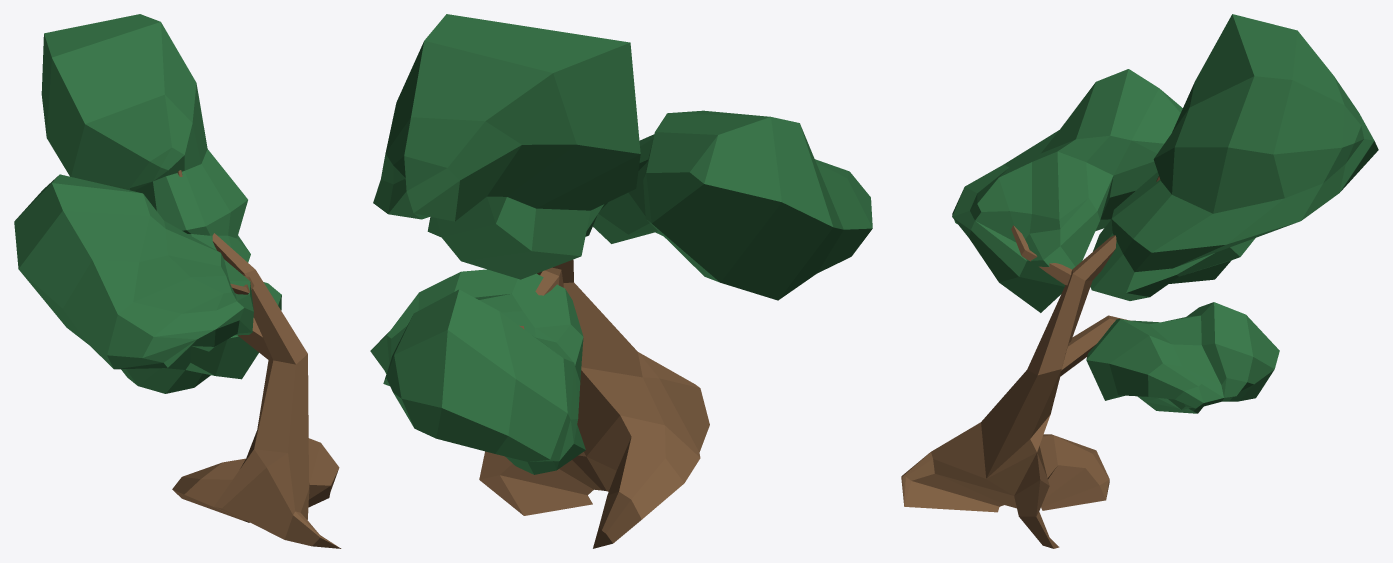
The model's file is Tree_Cliff2.fbx.
3 renders of one model, left to right at view 1: azimuth 30°, elevation 25°; view 2: azimuth 150°, elevation 25°; view 3: azimuth 270°, elevation 25°, orthographic. The views are drawn at different scales.
Visible parts, largest first — view 1: Tree.Cliffside.2; view 2: Tree.Cliffside.2; view 3: Tree.Cliffside.2.
Boxes of the visible parts, box(x1,y1,x2,y2) form: Tree.Cliffside.2: box(14, 14, 341, 548); Tree.Cliffside.2: box(370, 14, 872, 548); Tree.Cliffside.2: box(901, 14, 1378, 548).
Bounding box in the file's own units: 2927 × 4241 × 4054.
